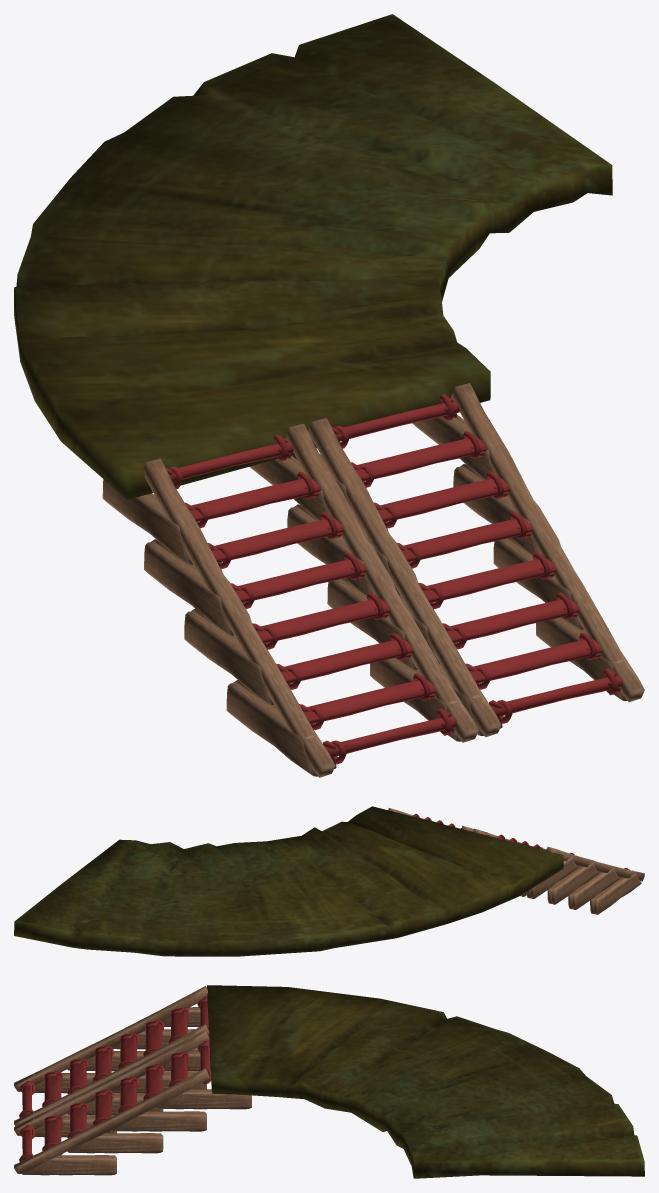
Rendered from SM_quarter_stair_structure.fbx.
The picture shows the model from 3 angles, top to bottom: view 1: azimuth 30°, elevation 25°; view 2: azimuth 150°, elevation 25°; view 3: azimuth 270°, elevation 25°; orthographic projection. The views are drawn at different scales.
Visible parts, largest first — view 1: quarter_stair_structure; view 2: quarter_stair_structure; view 3: quarter_stair_structure.
Boxes of the visible parts, x1,y1,x2,y2 form: quarter_stair_structure: [14, 14, 644, 777]; quarter_stair_structure: [14, 806, 644, 956]; quarter_stair_structure: [14, 985, 644, 1178].
Size of the model in its own units: 791 by 229 by 1176.
